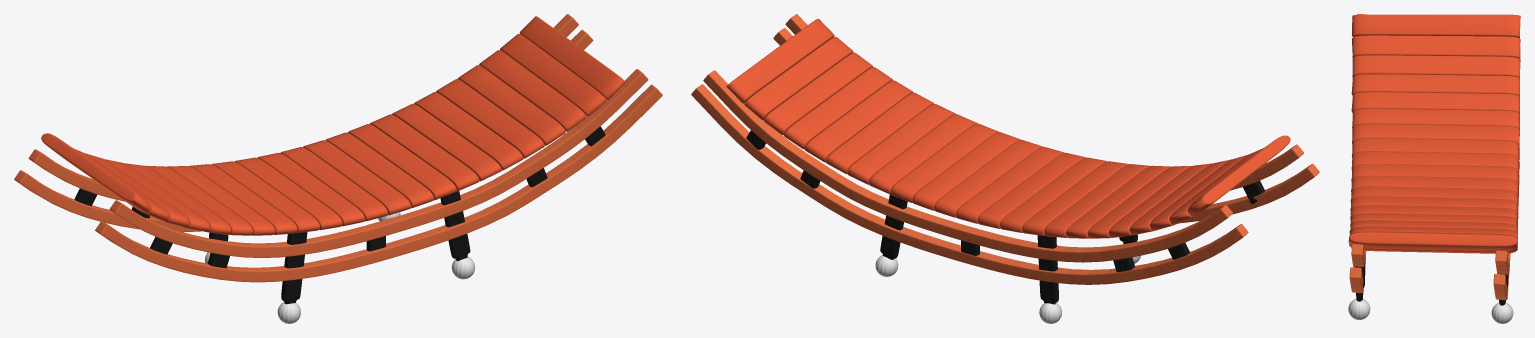
The model's file is lakeBridge.fbx.
3 renders of one model, left to right at view 1: azimuth 30°, elevation 25°; view 2: azimuth 150°, elevation 25°; view 3: azimuth 270°, elevation 25°, orthographic. The views are drawn at different scales.
Visible parts, largest first — view 1: bridge, left, right.001, lights; view 2: bridge, left, right.001, lights; view 3: bridge, left, lights, right.001.
Boxes of the visible parts, left/top/right/bottom form: bridge: left=41, top=16, right=625, bottom=235; left: left=14, top=14, right=662, bottom=282; right.001: left=74, top=126, right=605, bottom=304; lights: left=205, top=212, right=475, bottom=323; bridge: left=726, top=18, right=1290, bottom=238; left: left=691, top=14, right=1319, bottom=284; right.001: left=746, top=130, right=1264, bottom=304; lights: left=875, top=219, right=1140, bottom=323; bridge: left=1348, top=14, right=1520, bottom=253; left: left=1349, top=14, right=1510, bottom=300; lights: left=1348, top=299, right=1513, bottom=323; right.001: left=1355, top=261, right=1508, bottom=305.
Bounding box in the file's own units: 1074 × 316 × 300.
